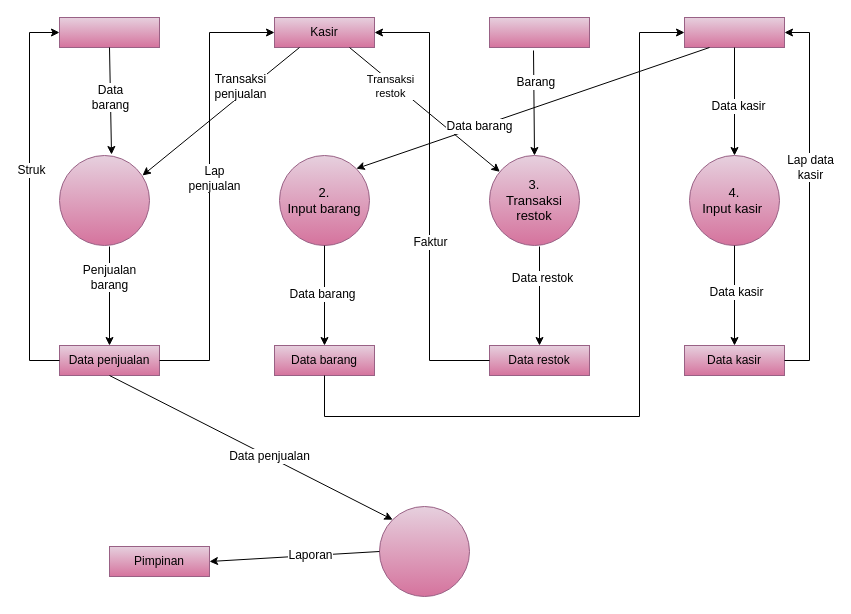
The diagram is 851 pixels wide and 614 high, and some of its shapes have lost their labels. The shapes that lost their labels are listed below. From the top down, each one's box as (x1, y1, x2, y2) in pixels, then its label:
(58, 16, 160, 48): Pembeli
(488, 16, 590, 48): Supplier
(684, 16, 784, 48): Admin
(58, 154, 150, 246): 1. Transaksi penjualan
(378, 506, 470, 596): 5. Generate laporan
